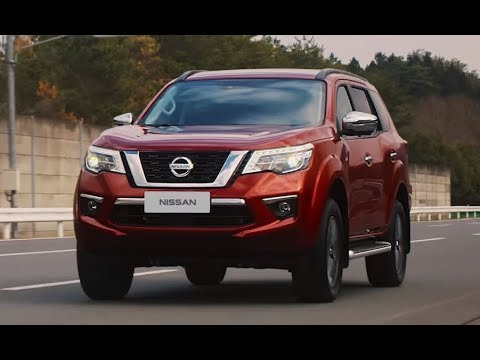pickup: (72, 67, 414, 305)
